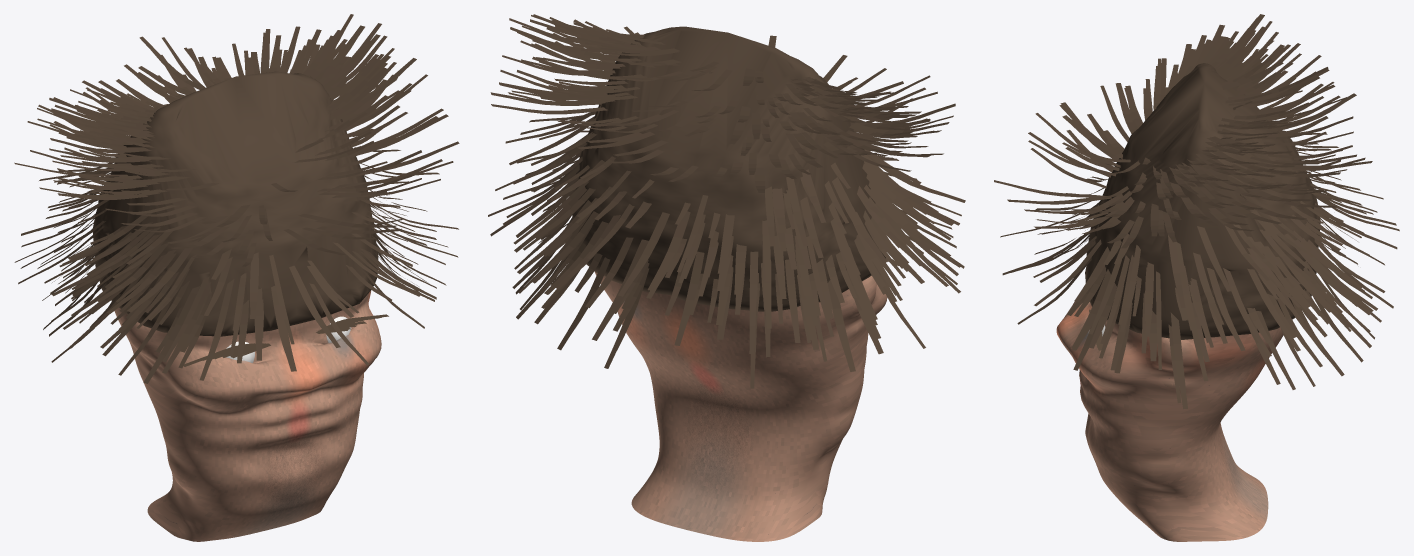
File: TLS_edmund_head_v3.glb
The picture shows the model from 3 angles, left to right: view 1: azimuth 30°, elevation 25°; view 2: azimuth 150°, elevation 25°; view 3: azimuth 270°, elevation 25°; orthographic projection. The views are drawn at different scales.
Visible parts, largest first — view 1: TLS_edmund_HairCap, TLS_edmund_Head, card.066, card.079, card.048, card.081, card.200, card.078; view 2: TLS_edmund_Head, TLS_edmund_HairCap, card.100, card.264, card.194, card.010, card.091, card.217, card.007, card.103, card.199, card.145 (+1 smaller); view 3: TLS_edmund_Head, TLS_edmund_HairCap, card.029, card.152, card.154, card.068, card.153, card.142, card.184, card.140, card.204, card.258 (+2 smaller).
Part boxes in pixels (box(x1,y1,x2,y2)): TLS_edmund_HairCap: box(92, 71, 378, 336); TLS_edmund_Head: box(114, 290, 381, 541); card.066: box(143, 285, 200, 383); card.079: box(199, 279, 234, 380); card.048: box(271, 286, 296, 371); card.081: box(289, 265, 340, 347); card.200: box(127, 240, 198, 312); card.078: box(162, 282, 210, 373); TLS_edmund_Head: box(594, 271, 887, 541); TLS_edmund_HairCap: box(572, 26, 885, 311); card.100: box(674, 251, 704, 345); card.264: box(832, 177, 887, 262); card.194: box(618, 212, 669, 296); card.010: box(827, 280, 855, 371); card.091: box(592, 239, 648, 340); card.217: box(647, 211, 690, 290); card.007: box(557, 257, 610, 350); card.103: box(785, 259, 800, 342); card.199: box(868, 182, 950, 257); card.145: box(531, 211, 598, 283); TLS_edmund_Head: box(1056, 301, 1283, 541); TLS_edmund_HairCap: box(1085, 63, 1320, 339); card.029: box(1170, 312, 1187, 409); card.152: box(1207, 268, 1245, 350); card.154: box(1247, 268, 1300, 351); card.068: box(1071, 269, 1110, 348); card.153: box(1223, 268, 1271, 356); card.142: box(1145, 262, 1153, 336); card.184: box(1120, 245, 1140, 331); card.140: box(1100, 255, 1129, 343); card.204: box(1193, 252, 1223, 324); card.258: box(1168, 231, 1185, 307).
Size of the model in its own units: 0.2574 by 0.2763 by 0.2378.
Materials: 7 (1 with a texture image).
